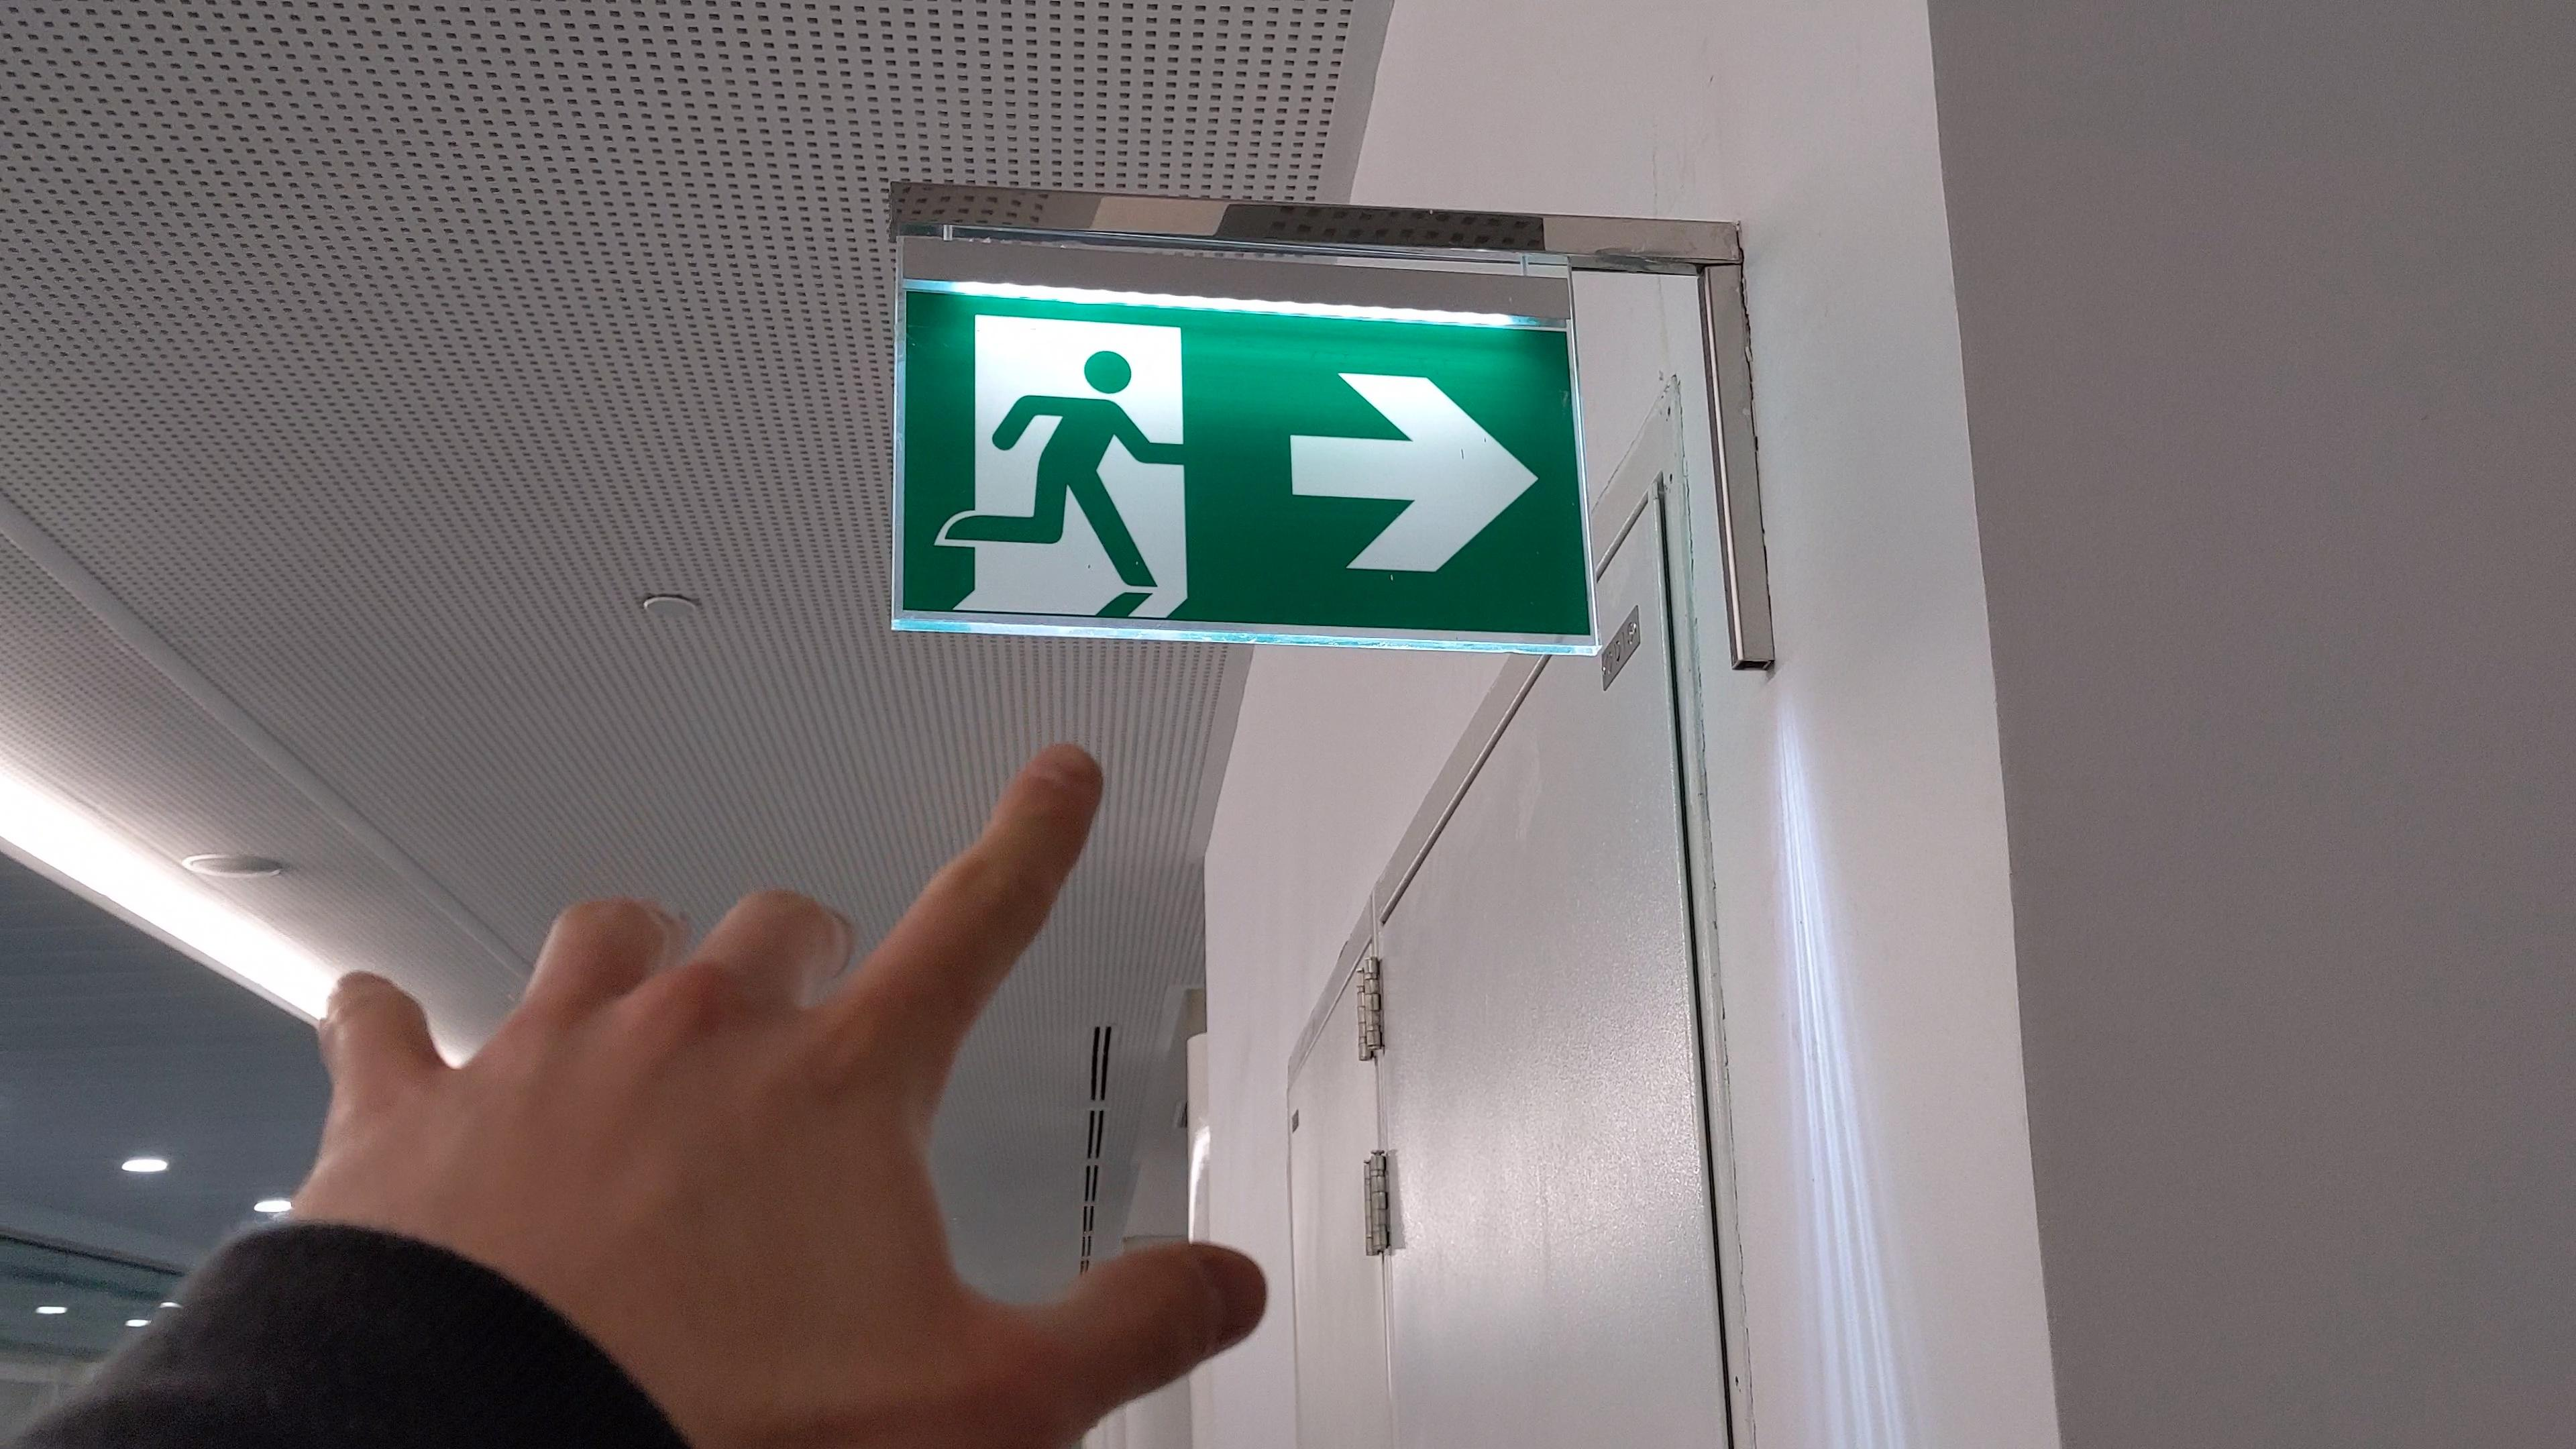emergency exit: (929, 303, 1200, 623)
emergency right arrow: (1284, 364, 1548, 586)
